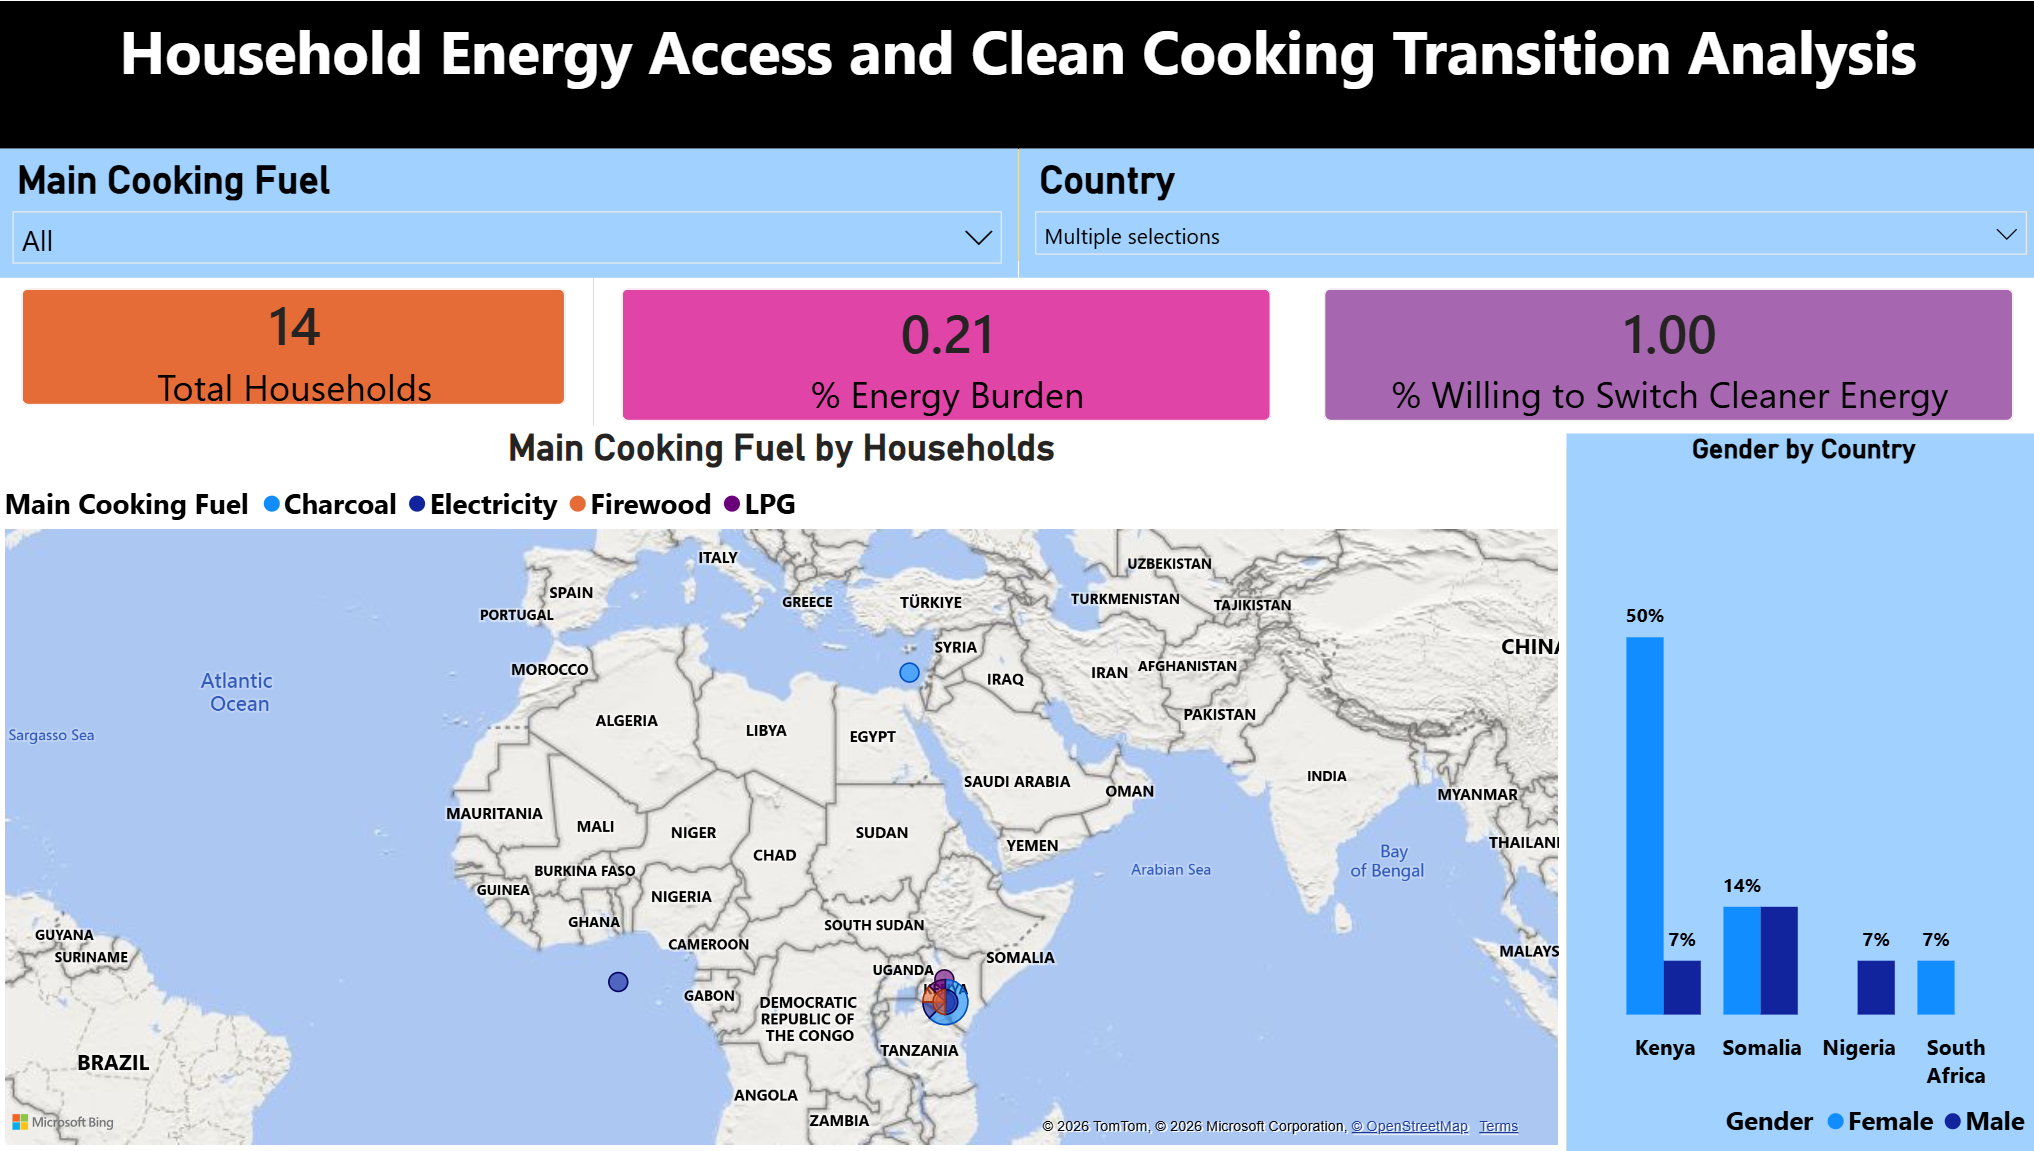

Layout of this report page (visuals, bound fields, positions):
{"tool":"powerbi","page":{"name":"Executive Overview","canvas":[1280,720],"ordinal":0},"visuals":[{"type":"textbox","box":[0,0,1280,92.4],"z":0},{"type":"cardVisual","fields":{"Data":["Dataset 2.Total Households"]},"box":[0,162.9,374.6,107.5],"z":1000},{"type":"cardVisual","fields":{"Data":["Dataset 2.% Energy Burden"]},"box":[374.6,162.9,440.1,117.6],"z":2000},{"type":"cardVisual","fields":{"Data":["Dataset 2.% Willing to Switch"]},"box":[814.7,162.9,465.3,117.6],"z":3000},{"type":"slicer","fields":{"Values":["Dataset 2.Main Cooking Fuel"]},"box":[1.7,92.4,638.3,80.6],"z":4000},{"type":"slicer","fields":{"Values":["Dataset 2.Country"]},"box":[640,92.4,640,80.6],"z":5000},{"type":"map","title":"Main Cooking Fuel by Households","fields":{"Y":["Dataset 2.Latitude"],"X":["Dataset 2.Longitude"],"Series":["Dataset 2.Main Cooking Fuel"],"Size":["Count(Dataset 2._id)"]},"box":[1.6,265.6,981.3,454.7],"z":6000},{"type":"clusteredColumnChart","title":"Gender by Country","fields":{"Y":["CountNonNull(Dataset 2._id)","select","select1","select2","select3","select4"],"Series":["Dataset 2.Gender"],"Category":["Dataset 2.Country"]},"box":[982.8,270.3,296.9,450],"z":7000}]}

Visuals, with their boxes in screenshot pixels (x1, y1, x2, y2), scaled from the page's 1280x720 canvas onto the 2034x1151 screenshot:
textbox: [left=0, top=0, right=2033, bottom=148]
cardVisual - Dataset 2.Total Households: [left=0, top=260, right=595, bottom=432]
cardVisual - Dataset 2.% Energy Burden: [left=595, top=260, right=1295, bottom=448]
cardVisual - Dataset 2.% Willing to Switch: [left=1295, top=260, right=2033, bottom=448]
slicer - Dataset 2.Main Cooking Fuel: [left=3, top=148, right=1017, bottom=277]
slicer - Dataset 2.Country: [left=1017, top=148, right=2033, bottom=277]
"Main Cooking Fuel by Households" map: [left=3, top=425, right=1562, bottom=1150]
"Gender by Country" clusteredColumnChart: [left=1562, top=432, right=2033, bottom=1150]
